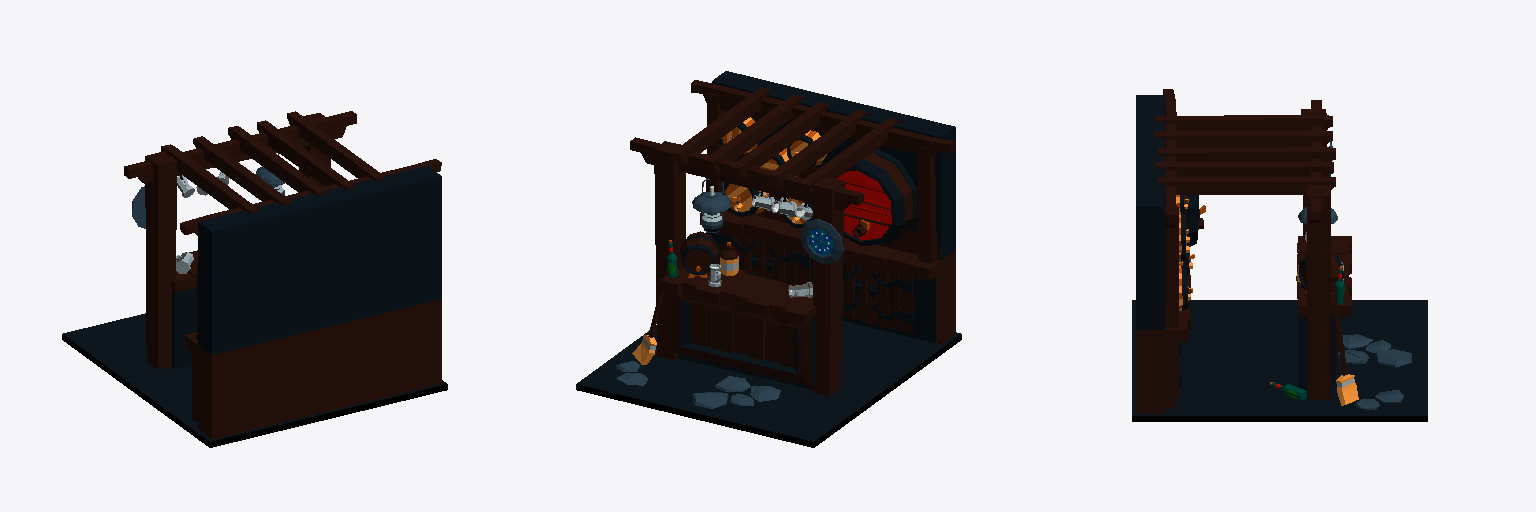
3 views of the same model, side by side, from view 1: azimuth 30°, elevation 25°; view 2: azimuth 150°, elevation 25°; view 3: azimuth 270°, elevation 25° (orthographic).
Parts seen in each view (by area): view 1: group[number redacted], group[number redacted], group[number redacted]; view 2: group[number redacted], group[number redacted], group[number redacted], group[number redacted], group[number redacted], group[number redacted], group[number redacted], group[number redacted], group[number redacted]; view 3: group[number redacted], group[number redacted], group[number redacted], group[number redacted], group[number redacted].
Part boxes in pixels (x1,y1,x2,y2): group[number redacted]: (185,166,441,438); group[number redacted]: (124,111,441,369); group[number redacted]: (62,313,447,447); group[number redacted]: (630,80,955,396); group[number redacted]: (700,71,955,344); group[number redacted]: (576,321,961,447); group[number redacted]: (918,147,936,263); group[number redacted]: (800,219,843,264); group[number redacted]: (680,231,718,277); group[number redacted]: (692,179,730,232); group[number redacted]: (632,253,668,364); group[number redacted]: (706,93,724,191); group[number redacted]: (1132,300,1427,421); group[number redacted]: (1154,89,1351,399); group[number redacted]: (1136,95,1203,413); group[number redacted]: (1165,207,1178,327); group[number redacted]: (1331,283,1358,405).
Size of the model in its own units: 4.33 by 3.48 by 4.29.